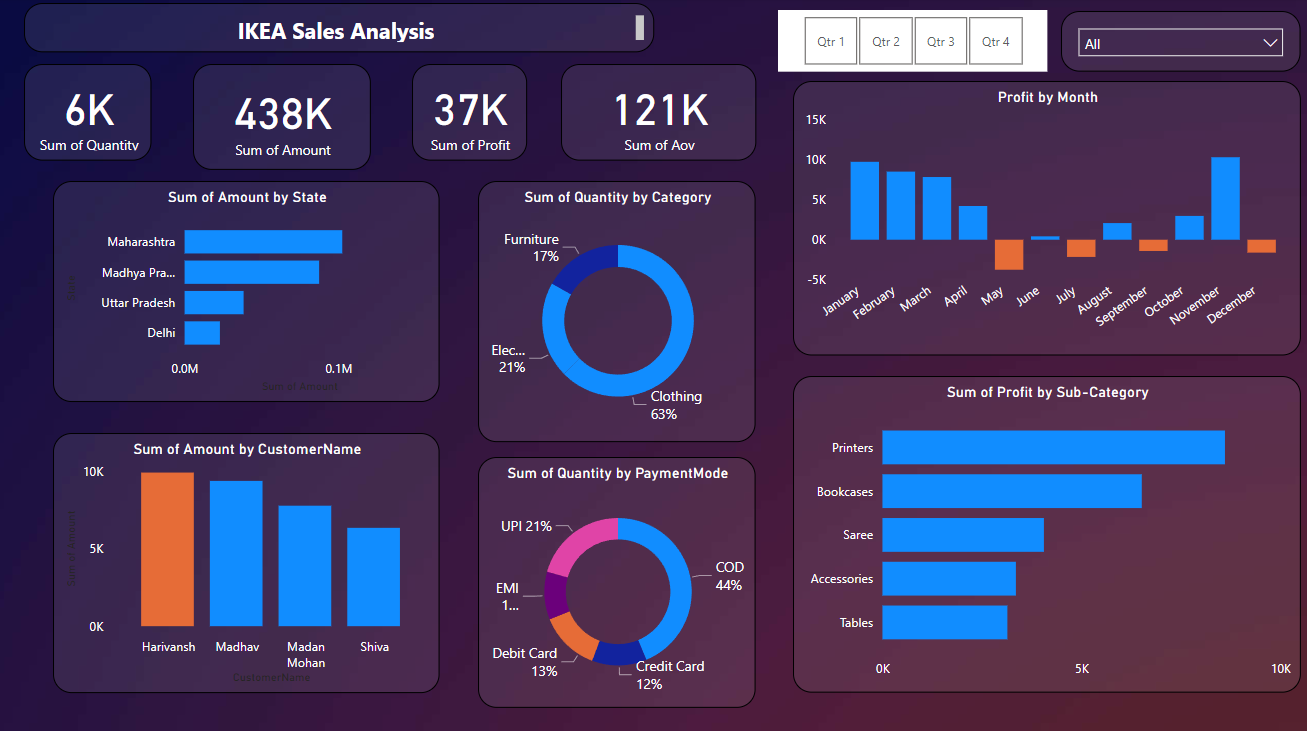

Layout of this report page (visuals, bound fields, positions):
{"tool":"powerbi","page":{"name":"Page 1","canvas":[1280,720],"ordinal":0},"visuals":[{"type":"textbox","box":[27.2,4.9,612.8,47.7],"z":0},{"type":"columnChart","title":"Profit by Month","fields":{"Category":["Orders.Order Date.Variation.Date Hierarchy.Month"],"Y":["Details.Profit"]},"box":[775.2,80.7,494.1,266.5],"z":1000},{"type":"barChart","fields":{"Category":["Details.Sub-Category"],"Y":["Details.Profit"]},"box":[775.2,367.7,494.1,308.3],"z":2000},{"type":"donutChart","fields":{"Category":["Details.Category"],"Y":["Details.Quantity"]},"box":[468.8,178,270.4,253.9],"z":3000},{"type":"donutChart","fields":{"Y":["Details.Quantity"],"Series":["Details.PaymentMode"]},"box":[468.8,446.4,270.4,244.1],"z":4000},{"type":"card","fields":{"Values":["Details.Amount"]},"box":[191.6,64.2,173.1,103.1],"z":5000},{"type":"card","fields":{"Values":["Details.Quantity"]},"box":[27.2,64.2,124.5,94.3],"z":6000},{"type":"card","fields":{"Values":["Details.Profit"]},"box":[404.6,64.2,111.9,94.3],"z":7000},{"type":"card","fields":{"Values":["Details.Aov"]},"box":[549.5,64.2,189.7,94.3],"z":8000},{"type":"barChart","fields":{"Y":["Details.Amount"],"Category":["Orders.State"]},"box":[55.4,178,376.4,215],"z":9000},{"type":"clusteredColumnChart","fields":{"Category":["Orders.CustomerName"],"Y":["Details.Amount"]},"box":[55.4,423.1,376.4,252.9],"z":10000},{"type":"slicer","fields":{"Values":["Orders.Order Date.Variation.Date Hierarchy.Quarter"]},"box":[760.6,11.7,261.6,60.3],"z":11000},{"type":"slicer","fields":{"Values":["Orders.State"]},"box":[1035.9,12.6,233.4,59.3],"z":12000}]}

Visuals, with their boxes in screenshot pixels (x1, y1, x2, y2), scaled from the page's 1280x720 canvas onto the 1307x731 screenshot:
textbox: 28/5/654/53
"Profit by Month" columnChart: 792/82/1296/353
barChart - Details.Sub-Category x Details.Profit: 792/373/1296/686
donutChart - Details.Category x Details.Quantity: 479/181/755/438
donutChart - Details.Quantity x Details.PaymentMode: 479/453/755/701
card - Details.Amount: 196/65/372/170
card - Details.Quantity: 28/65/155/161
card - Details.Profit: 413/65/527/161
card - Details.Aov: 561/65/755/161
barChart - Details.Amount x Orders.State: 57/181/441/399
clusteredColumnChart - Orders.CustomerName x Details.Amount: 57/430/441/686
slicer - Orders.Order Date.Variation.Date Hierarchy.Quarter: 777/12/1044/73
slicer - Orders.State: 1058/13/1296/73
